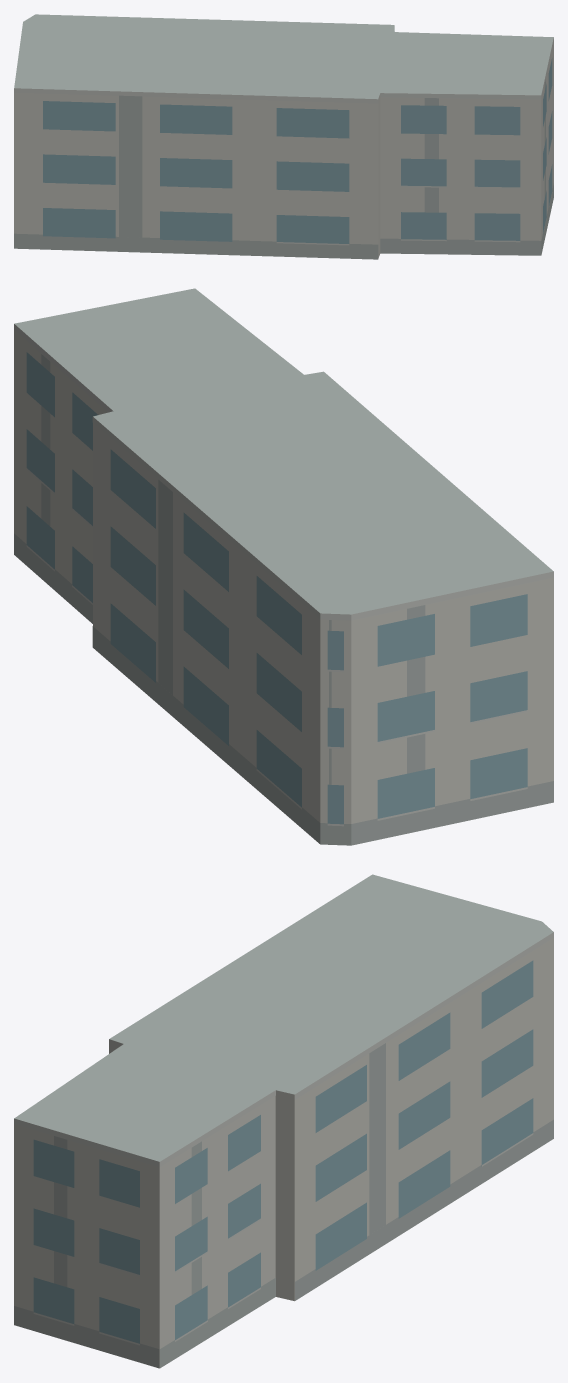
File: survey-upis-32931398.glb
3 views of the same model, one above another, from view 1: azimuth 30°, elevation 25°; view 2: azimuth 150°, elevation 25°; view 3: azimuth 270°, elevation 25° (orthographic). The views are drawn at different scales.
Visible parts, largest first — view 1: survey-upis-32931398.tmp; view 2: survey-upis-32931398.tmp; view 3: survey-upis-32931398.tmp.
Part boxes in pixels (x1,y1,x2,y2): survey-upis-32931398.tmp: (14,14,553,259); survey-upis-32931398.tmp: (14,288,553,845); survey-upis-32931398.tmp: (14,874,553,1368).
Size of the model in its own units: 27.31 by 9.15 by 21.67.
